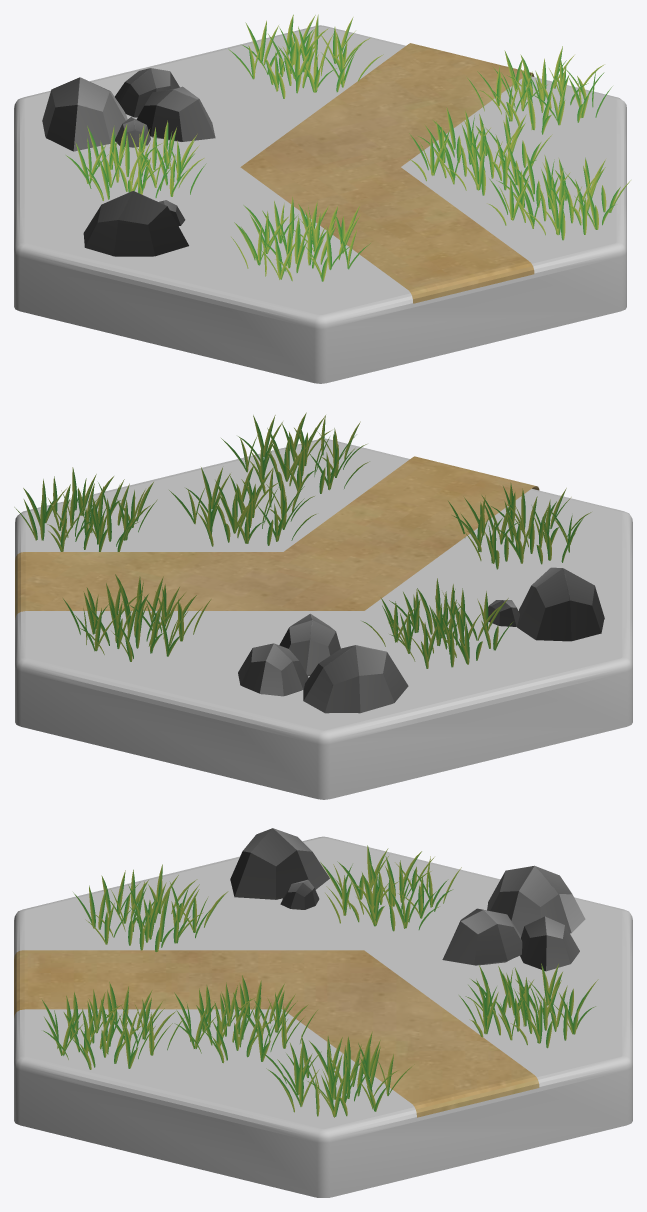
The model's file is Road_TutType1.fbx.
3 renders of one model, top to bottom at view 1: azimuth 30°, elevation 25°; view 2: azimuth 150°, elevation 25°; view 3: azimuth 270°, elevation 25°, orthographic.
Parts seen in each view (by area): view 1: Object009; view 2: Object009; view 3: Object009.
Part boxes in pixels (bbox=[...]): Object009: bbox=[14, 14, 630, 383]; Object009: bbox=[14, 412, 632, 799]; Object009: bbox=[14, 828, 632, 1197].
Bounding box in the file's own units: 99.25 × 17.86 × 86.6.
